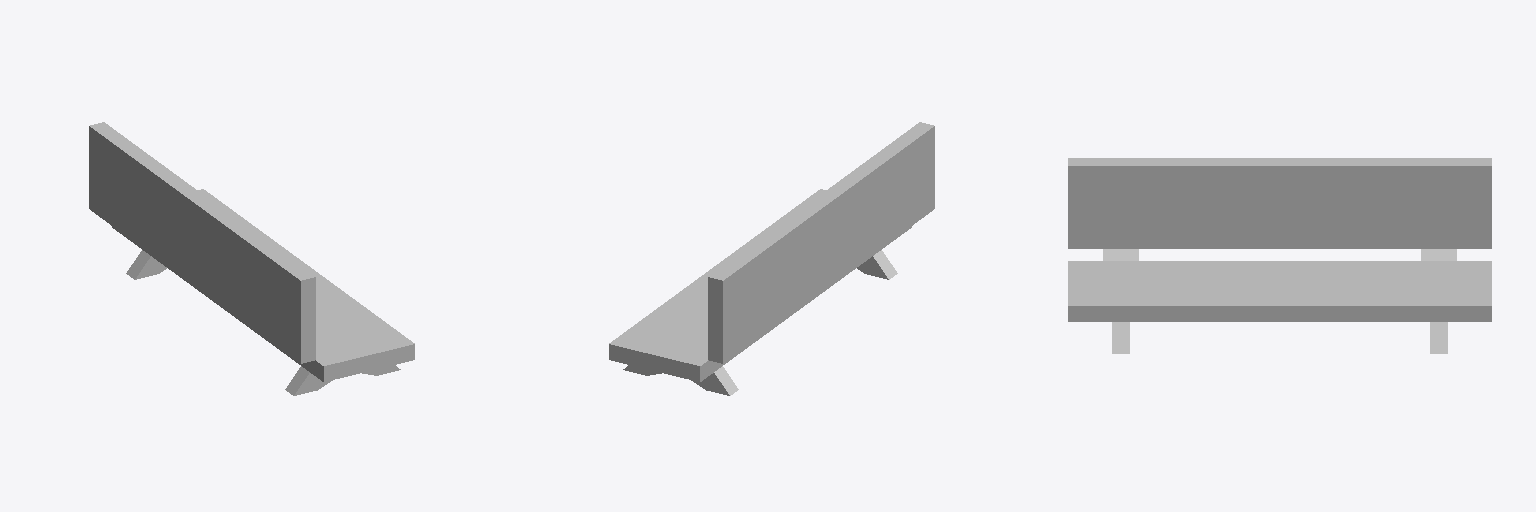
Rendered from bench.obj.
The picture shows the model from 3 angles: view 1: azimuth 30°, elevation 25°; view 2: azimuth 150°, elevation 25°; view 3: azimuth 270°, elevation 25°; orthographic projection.
Visible parts, largest first — view 1: pCube2, pCube1, pCube8, pCube9; view 2: pCube2, pCube1, pCube9, pCube8; view 3: pCube2, pCube1, pCube8, pCube9.
Part boxes in pixels (x1,y1,x2,y2): pCube2: (89, 122, 315, 363); pCube1: (112, 189, 414, 381); pCube8: (285, 365, 400, 395); pCube9: (126, 250, 166, 279); pCube2: (708, 122, 934, 363); pCube1: (609, 189, 911, 381); pCube9: (623, 365, 738, 395); pCube8: (857, 250, 897, 279); pCube2: (1068, 158, 1491, 248); pCube1: (1068, 261, 1491, 321); pCube8: (1112, 322, 1129, 353); pCube9: (1430, 322, 1447, 353).
Size of the model in its own units: 2 by 2.11 by 6.